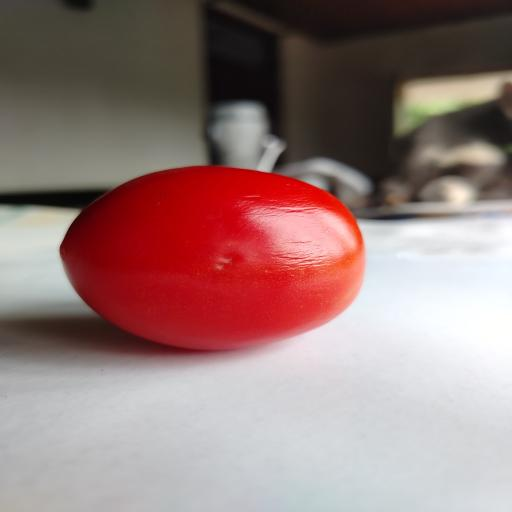overipe: (60, 166, 365, 349)
